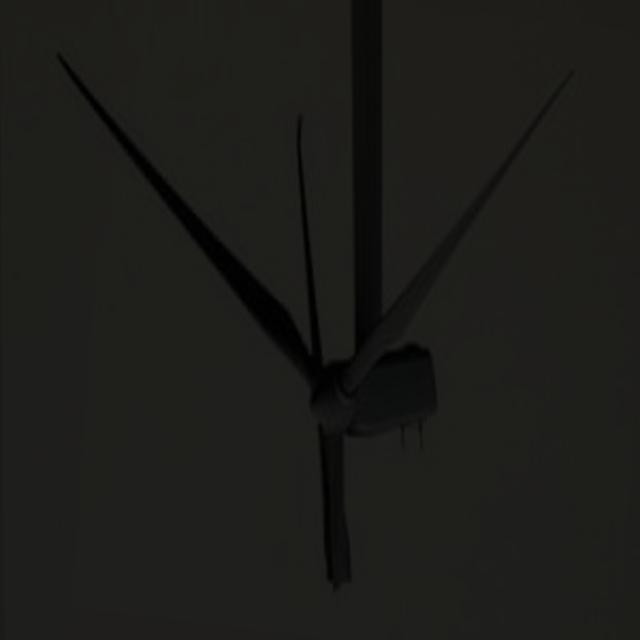crack: (291, 116, 361, 600)
